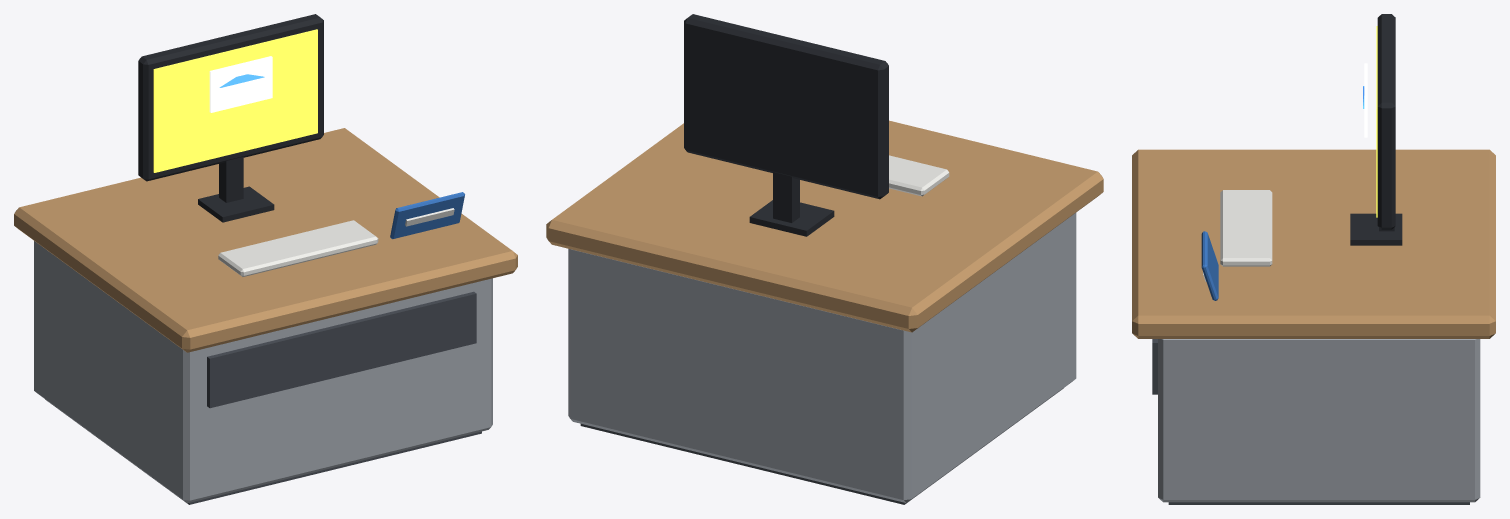
File: autoreply_2.glb
3 views of the same model, side by side, from view 1: azimuth 30°, elevation 25°; view 2: azimuth 150°, elevation 25°; view 3: azimuth 270°, elevation 25° (orthographic). The views are drawn at different scales.
Parts seen in each view (by area): view 1: autoreply_2_mesh_Desk, autoreply_2_mesh; view 2: autoreply_2_mesh_Desk, autoreply_2_mesh; view 3: autoreply_2_mesh_Desk, autoreply_2_mesh.
Boxes of the visible parts, x1,y1,x2,y2 form: autoreply_2_mesh_Desk: (14,128,517,504); autoreply_2_mesh: (138,14,464,276); autoreply_2_mesh_Desk: (546,120,1103,504); autoreply_2_mesh: (684,14,949,236); autoreply_2_mesh_Desk: (1132,149,1495,504); autoreply_2_mesh: (1201,14,1402,300).
Size of the model in its own units: 0.78 by 0.79 by 0.7.
